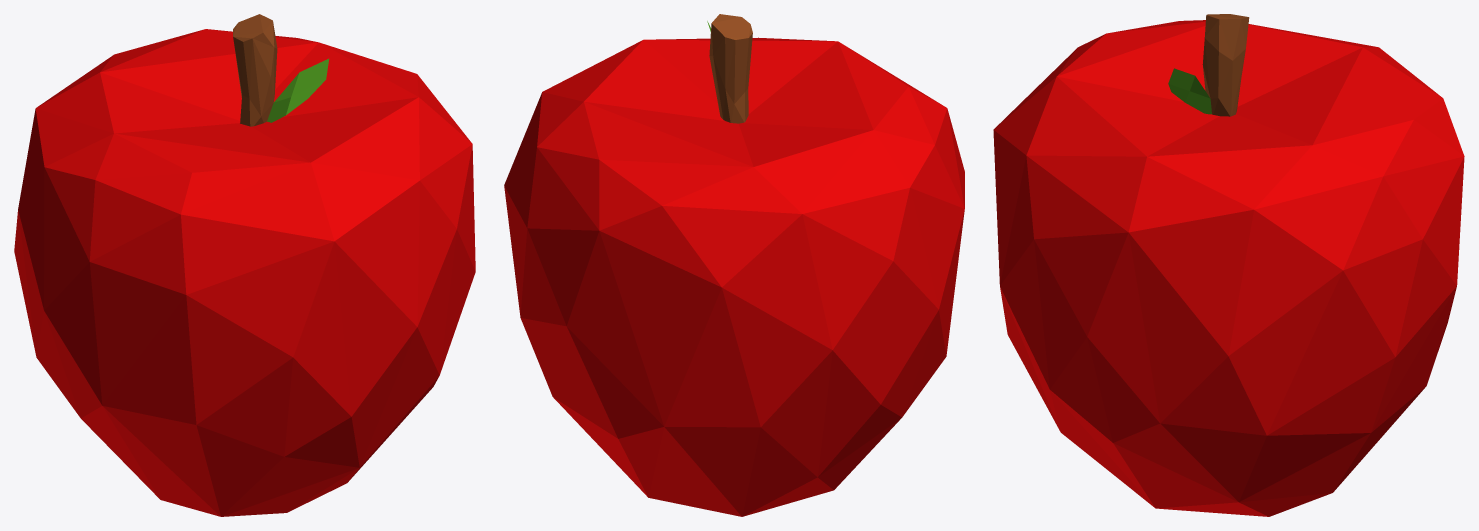
The model's file is Apple_0.fbx.
The picture shows the model from 3 angles, left to right: view 1: azimuth 30°, elevation 25°; view 2: azimuth 150°, elevation 25°; view 3: azimuth 270°, elevation 25°; orthographic projection. The views are drawn at different scales.
Parts seen in each view (by area): view 1: Cylinder.006; view 2: Cylinder.006; view 3: Cylinder.006.
Part boxes in pixels (left/top/right/bottom): Cylinder.006: left=14, top=14, right=475, bottom=516; Cylinder.006: left=504, top=14, right=964, bottom=516; Cylinder.006: left=993, top=14, right=1464, bottom=516.
Bounding box in the file's own units: 156 × 176 × 159.
